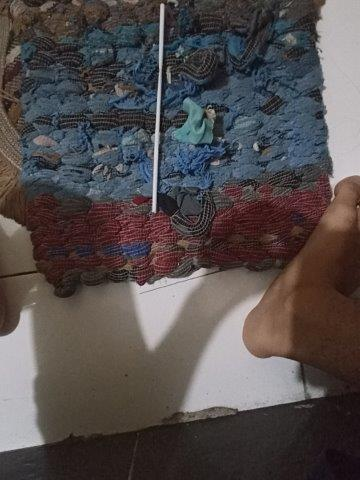sedotan: (152, 4, 165, 212)
